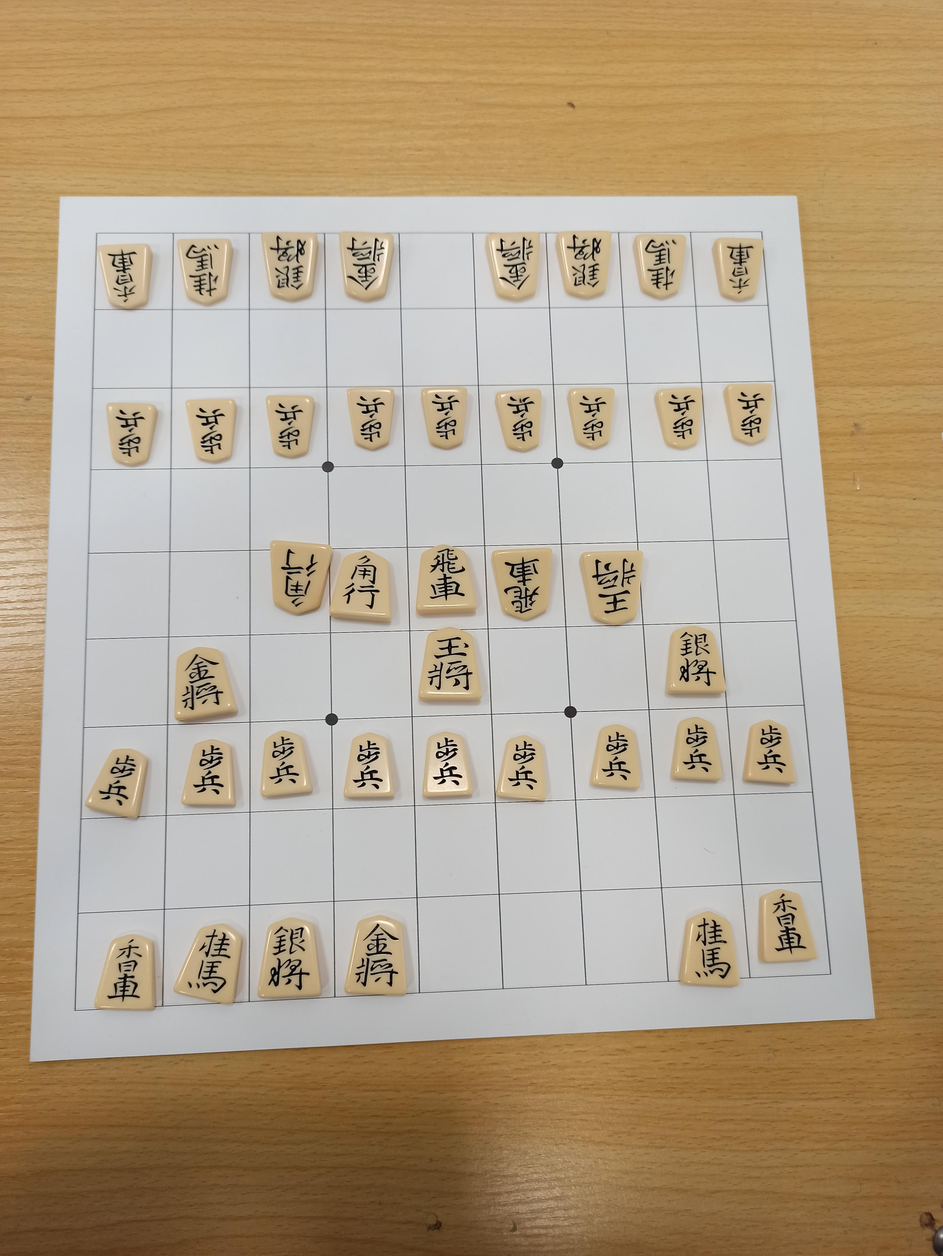board: (77, 233, 833, 1009)
